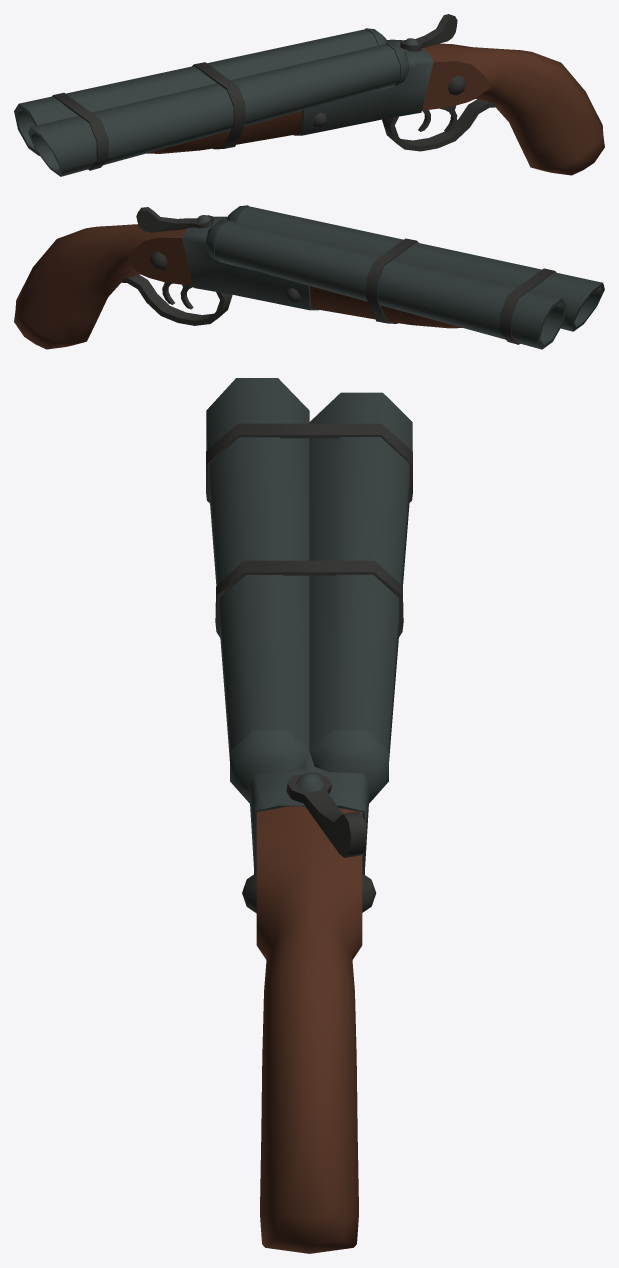
Rendered from uploads_files_3794577_Shotgun.obj.
3 views of the same model, one above another, from view 1: azimuth 30°, elevation 25°; view 2: azimuth 150°, elevation 25°; view 3: azimuth 270°, elevation 25° (orthographic). The views are drawn at different scales.
Visible parts, largest first — view 1: shotgun_Cube.005; view 2: shotgun_Cube.005; view 3: shotgun_Cube.005.
Part boxes in pixels (left/top/right/bottom): shotgun_Cube.005: left=14, top=14, right=604, bottom=176; shotgun_Cube.005: left=14, top=205, right=604, bottom=349; shotgun_Cube.005: left=206, top=378, right=412, bottom=1253.
Bounding box in the file's own units: 0.4945 × 0.1461 × 0.078.
